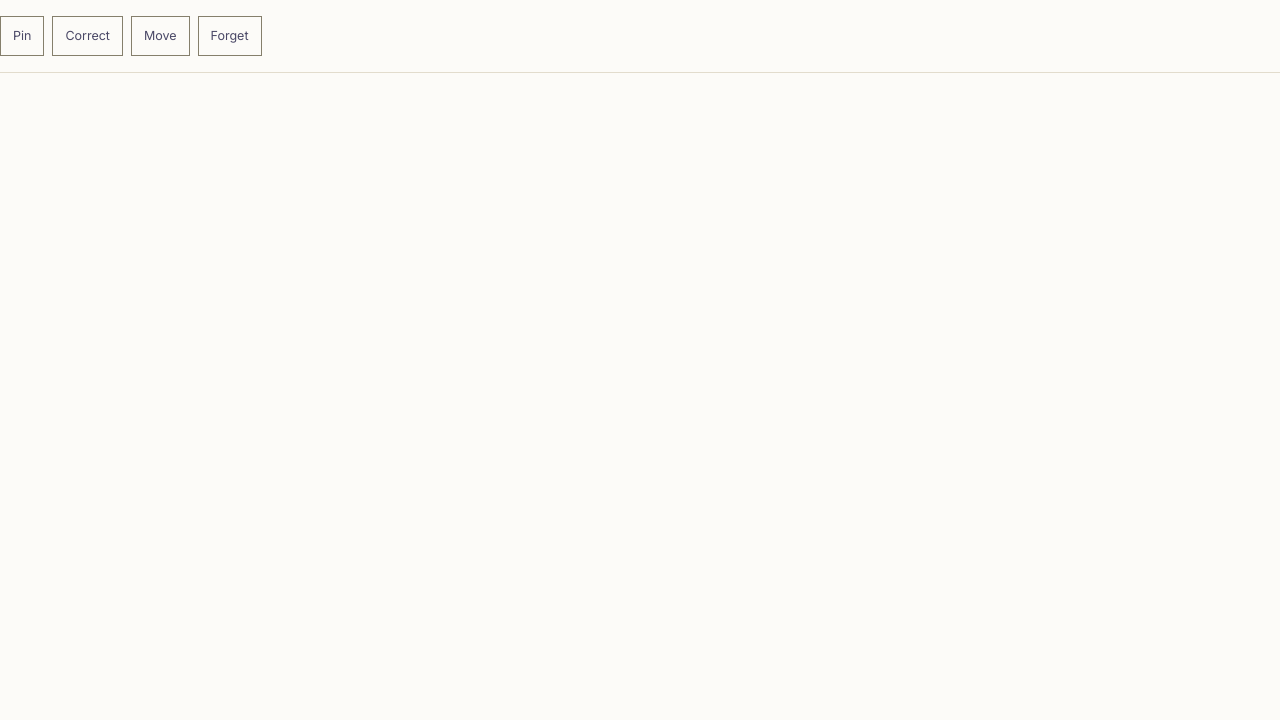
pins only after the confirmation, then refreshes and says so
Click the button "Pin": (22, 36) [0,16,44,56]
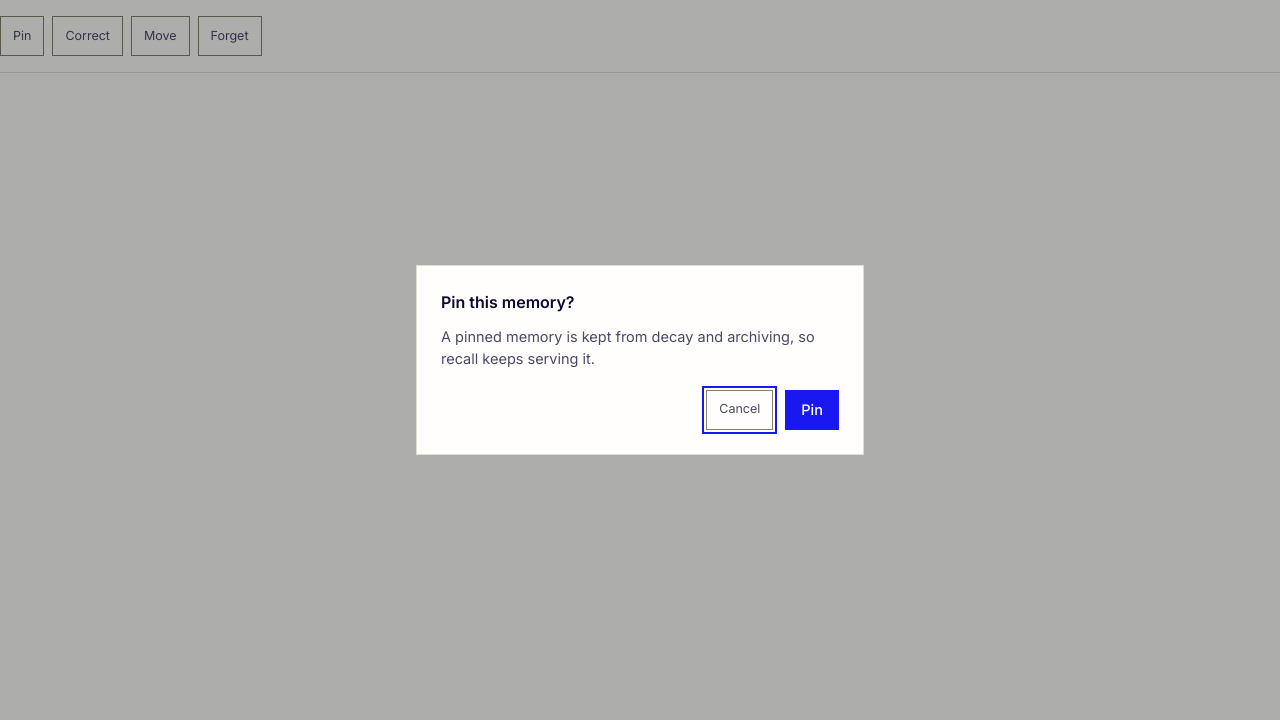
Click the button "Pin": (812, 410) [785,390,839,430]
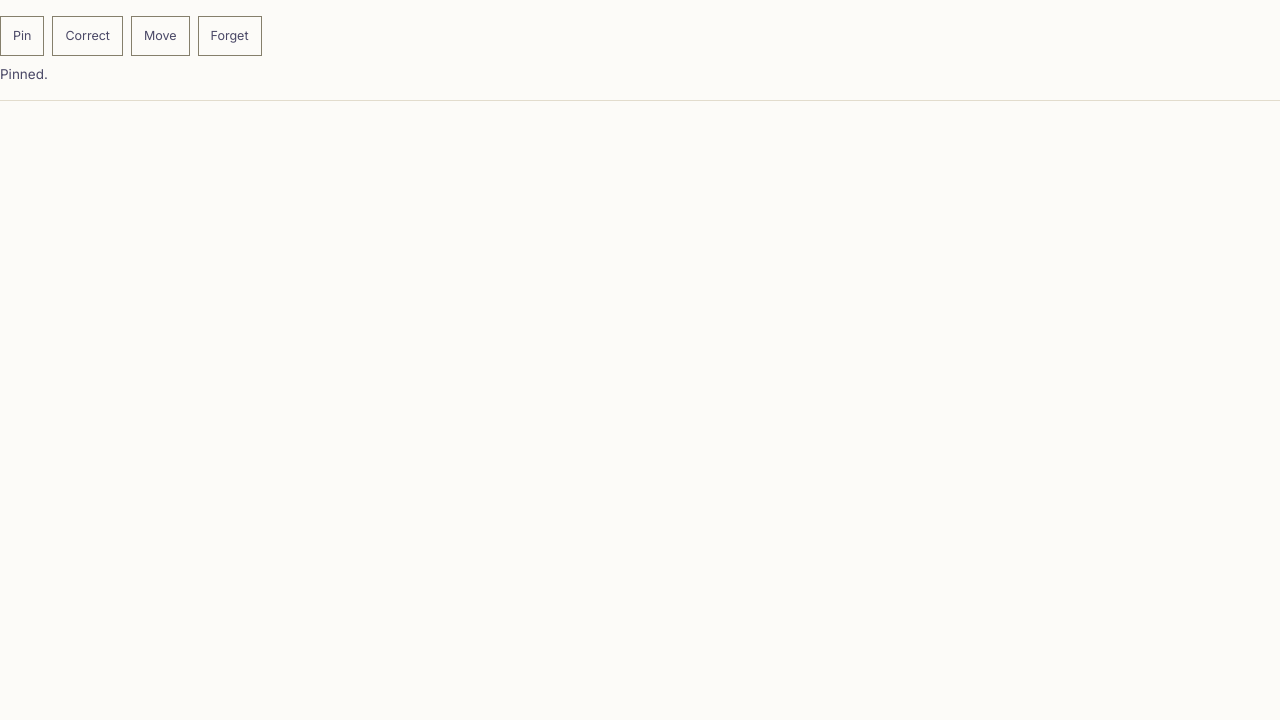
Expected: the message reads "Pinned.", [0,66,48,82]
